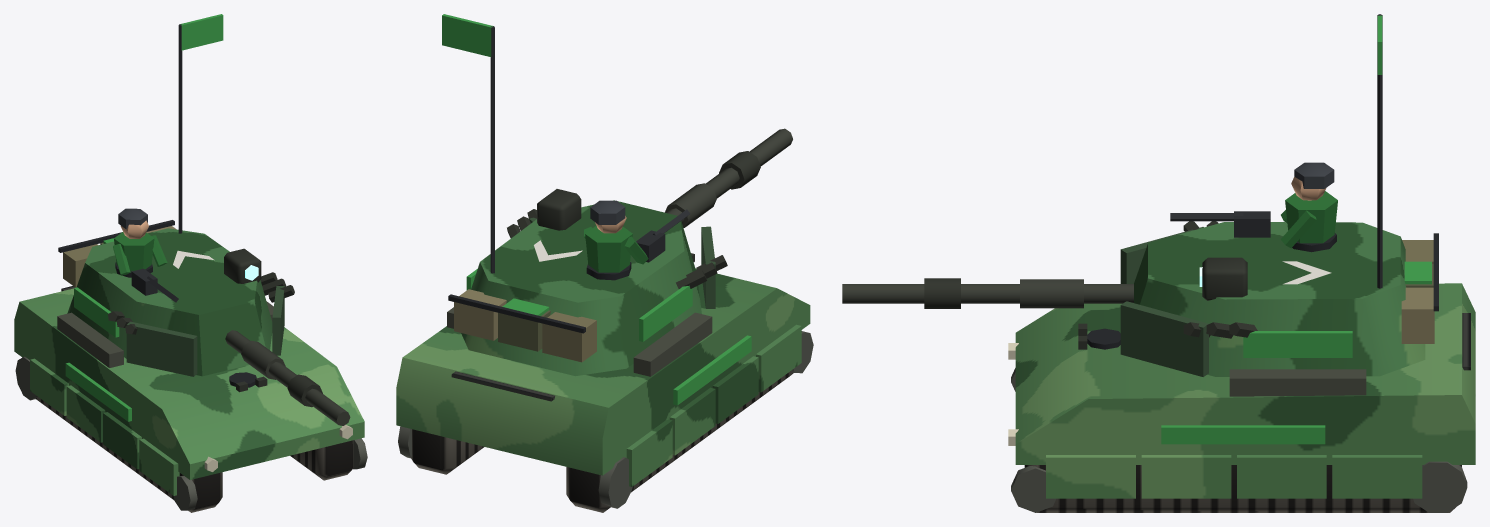
Rendered from assault_dl7_green.glb.
The picture shows the model from 3 angles, left to right: view 1: azimuth 30°, elevation 25°; view 2: azimuth 150°, elevation 25°; view 3: azimuth 270°, elevation 25°; orthographic projection. The views are drawn at different scales.
Visible parts, largest first — view 1: assault_dl7_green; view 2: assault_dl7_green; view 3: assault_dl7_green.
Part boxes in pixels (bbox=[...]): assault_dl7_green: bbox=[14, 14, 367, 512]; assault_dl7_green: bbox=[396, 14, 813, 512]; assault_dl7_green: bbox=[842, 14, 1475, 512].
Size of the model in its own units: 0.31 by 0.575 by 0.695.
Materials: 2 (1 with a texture image).
